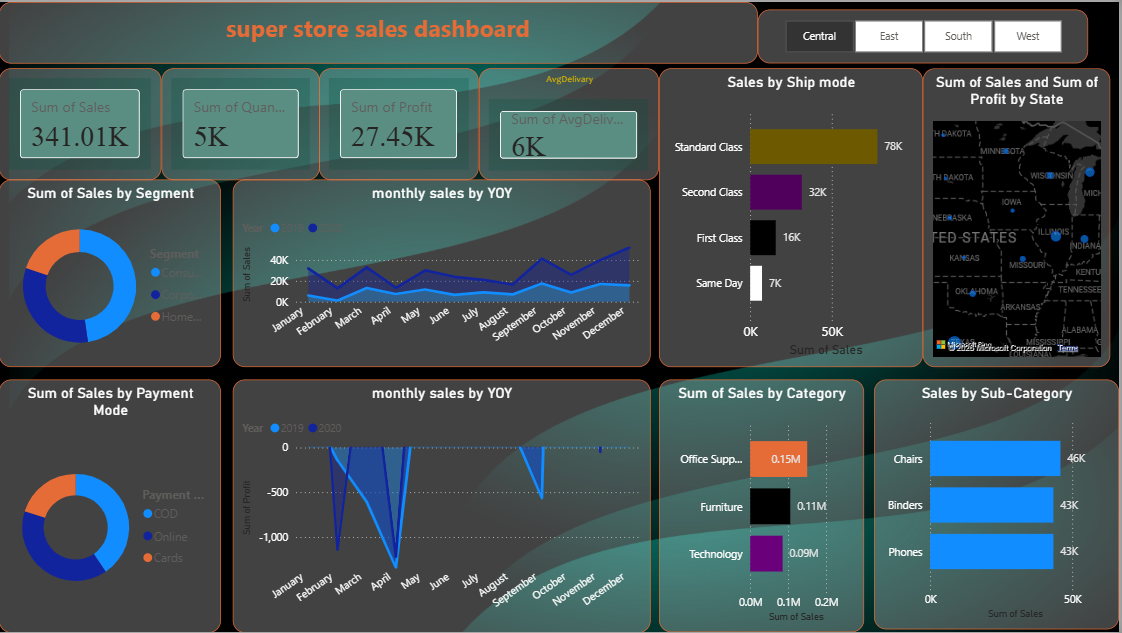

Layout of this report page (visuals, bound fields, positions):
{"tool":"powerbi","page":{"name":"Page 1","canvas":[1280,720],"ordinal":0},"visuals":[{"type":"clusteredBarChart","fields":{"Category":["Sheet1.Category"],"Y":["Sum(Sheet1.Sales)"]},"box":[754.3,431.4,234.3,288.6],"z":0},{"type":"clusteredBarChart","title":" Sales by Sub-Category","fields":{"Category":["Sheet1.Sub-Category"],"Y":["Sum(Sheet1.Sales)"]},"box":[1000.3,430.9,279.9,285.4],"z":1000},{"type":"clusteredBarChart","title":" Sales by Ship mode","fields":{"Category":["Sheet1.Ship Mode"],"Y":["Sum(Sheet1.Sales)"]},"box":[754.3,75.7,301.4,341.4],"z":2000},{"type":"stackedAreaChart","title":"monthly sales by YOY","fields":{"Y":["Sum(Sheet1.Sales)"],"Category":["Sheet1.Order Date.Variation.Date Hierarchy.Month","Sheet1.Order Date.Variation.Date Hierarchy.Day"],"Series":["Sheet1.Order Date.Variation.Date Hierarchy.Year"]},"box":[267.6,203.1,477.5,214.1],"z":3000},{"type":"stackedAreaChart","title":"monthly sales by YOY","fields":{"Category":["Sheet1.Order Date.Variation.Date Hierarchy.Month","Sheet1.Order Date.Variation.Date Hierarchy.Day"],"Series":["Sheet1.Order Date.Variation.Date Hierarchy.Year"],"Y":["Sum(Sheet1.Profit)"]},"box":[267.6,430.9,477.5,289.5],"z":4000},{"type":"map","fields":{"Category":["Sheet1.State"],"Size":["Sum(Sheet1.Sales)"]},"box":[1055.2,75.5,214.1,341.7],"z":5000},{"type":"donutChart","fields":{"Y":["Sum(Sheet1.Sales)"],"Category":["Sheet1.Segment"]},"box":[0,203.1,253.9,214.1],"z":6000},{"type":"donutChart","fields":{"Y":["Sum(Sheet1.Sales)"],"Category":["Sheet1.Payment Mode"]},"box":[0,430.9,253.9,289.5],"z":7000},{"type":"slicer","fields":{"Values":["Sheet1.Region"]},"box":[867.2,8.2,377.4,61.7],"z":8000},{"type":"textbox","box":[0,0,867.1,70],"z":9000},{"type":"cardVisual","fields":{"Data":["Sum(Sheet1.Sales)"]},"box":[0,75.5,185.2,127.6],"z":10000},{"type":"cardVisual","fields":{"Data":["Sum(Sheet1.Profit)"]},"box":[366.4,75.5,182.5,127.6],"z":11000},{"type":"cardVisual","fields":{"Data":["Sum(Sheet1.Quantity)"]},"box":[185.2,75.5,181.1,127.6],"z":12000},{"type":"cardVisual","title":"AvgDelivary","fields":{"Data":["Sum(Sheet1.AvgDelivery)"]},"box":[548.9,75.5,205.8,127.6],"z":13000}]}

Visuals, with their boxes in screenshot pixels (x1, y1, x2, y2), scaled from the page's 1280x720 canvas onto the 1122x633 screenshot:
clusteredBarChart - Sheet1.Category x Sum(Sheet1.Sales): bbox=(661, 379, 867, 632)
" Sales by Sub-Category" clusteredBarChart: bbox=(877, 379, 1121, 630)
" Sales by Ship mode" clusteredBarChart: bbox=(661, 67, 925, 367)
"monthly sales by YOY" stackedAreaChart: bbox=(235, 179, 653, 367)
"monthly sales by YOY" stackedAreaChart: bbox=(235, 379, 653, 632)
map - Sheet1.State x Sum(Sheet1.Sales): bbox=(925, 66, 1113, 367)
donutChart - Sum(Sheet1.Sales) x Sheet1.Segment: bbox=(0, 179, 223, 367)
donutChart - Sum(Sheet1.Sales) x Sheet1.Payment Mode: bbox=(0, 379, 223, 632)
slicer - Sheet1.Region: bbox=(760, 7, 1091, 61)
textbox: bbox=(0, 0, 760, 62)
cardVisual - Sum(Sheet1.Sales): bbox=(0, 66, 162, 179)
cardVisual - Sum(Sheet1.Profit): bbox=(321, 66, 481, 179)
cardVisual - Sum(Sheet1.Quantity): bbox=(162, 66, 321, 179)
"AvgDelivary" cardVisual: bbox=(481, 66, 662, 179)
